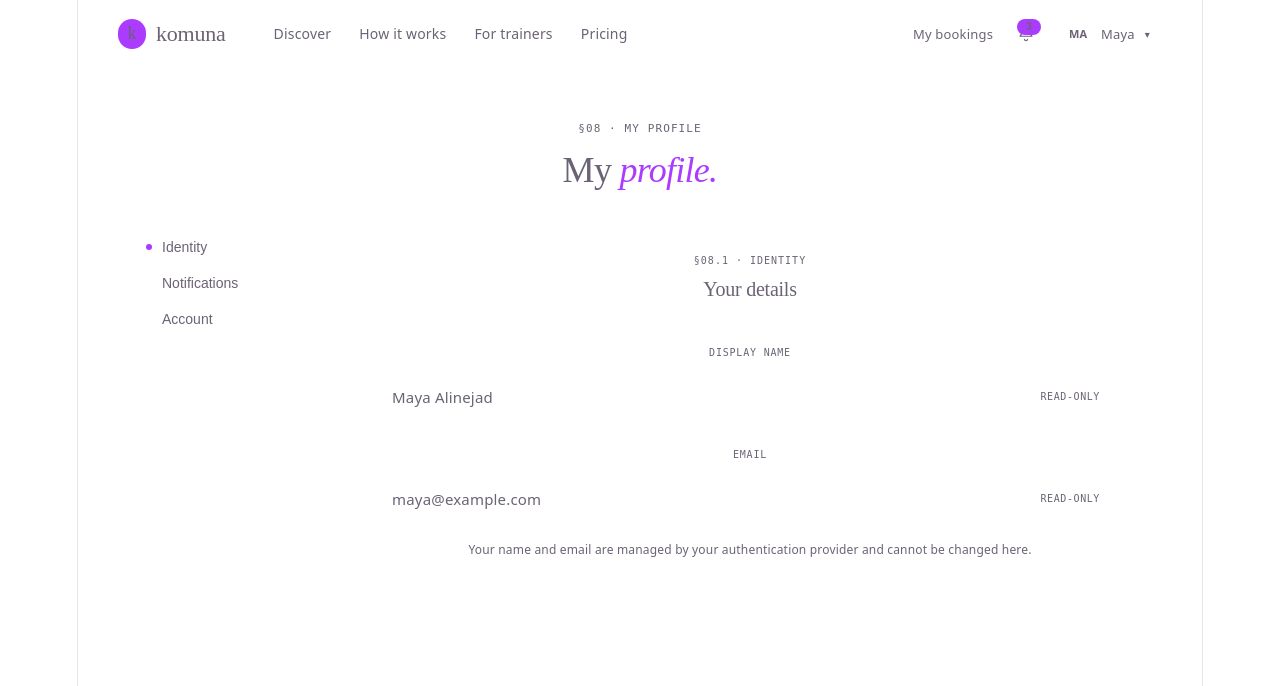
Test case: ProfilePage › clicking "Notifications" sidebar item shows notifications panel
Click the button "Notifications".
click(224, 283)  # box [134,266,314,300]
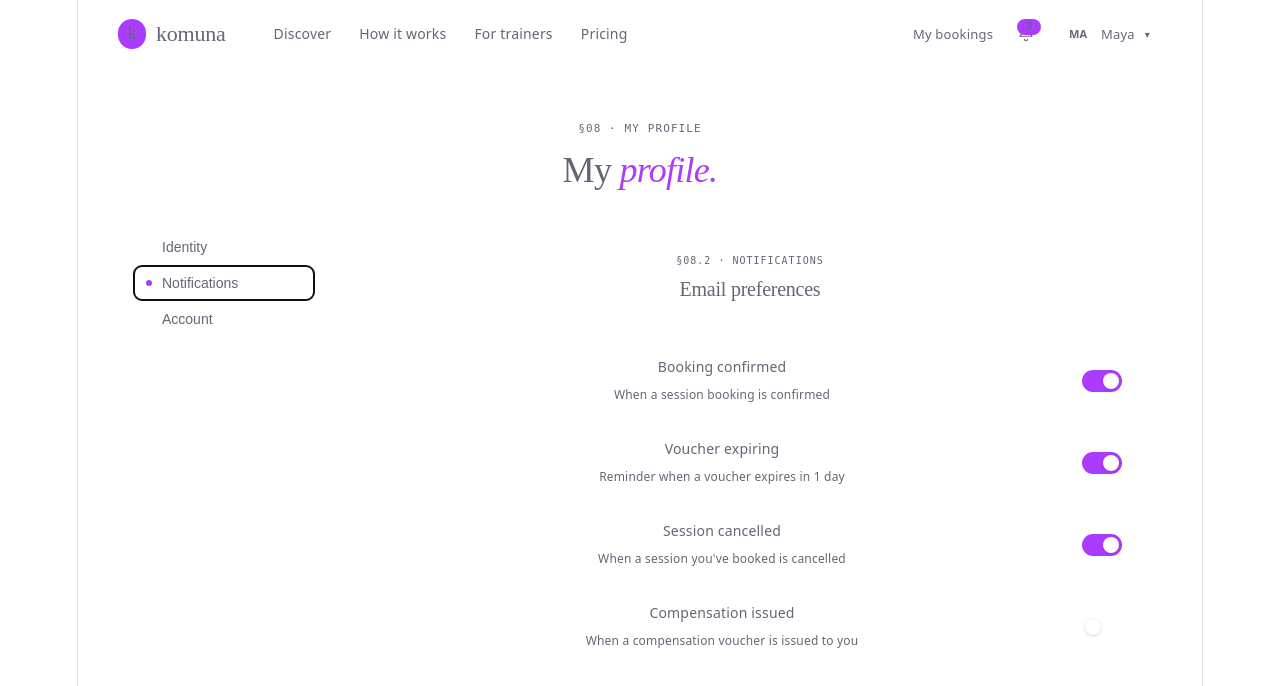
Now the heading "Email preferences" is shown, box [680,278,820,300]
